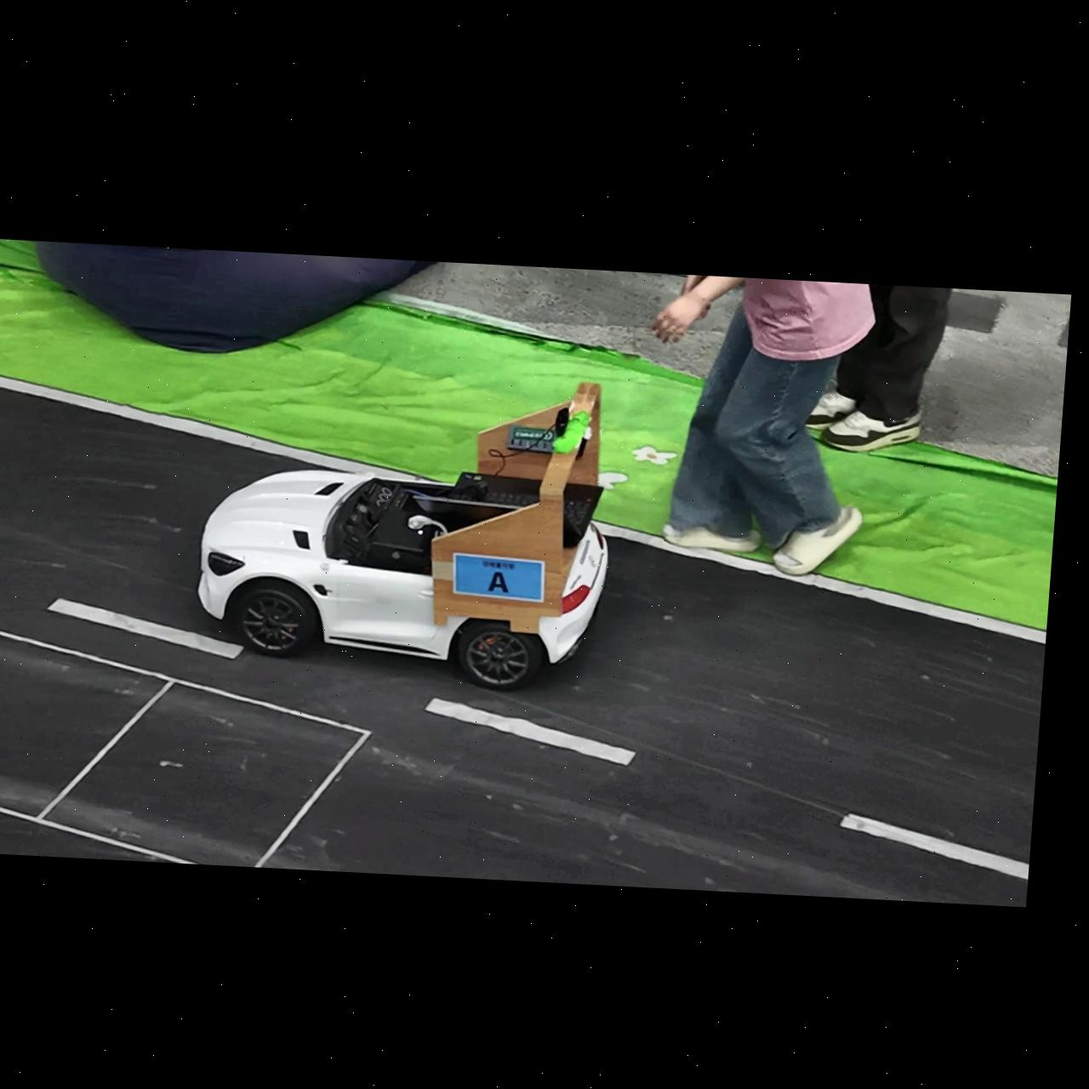broken_line: (424, 698, 636, 766), (839, 813, 1029, 880), (47, 598, 244, 659)
